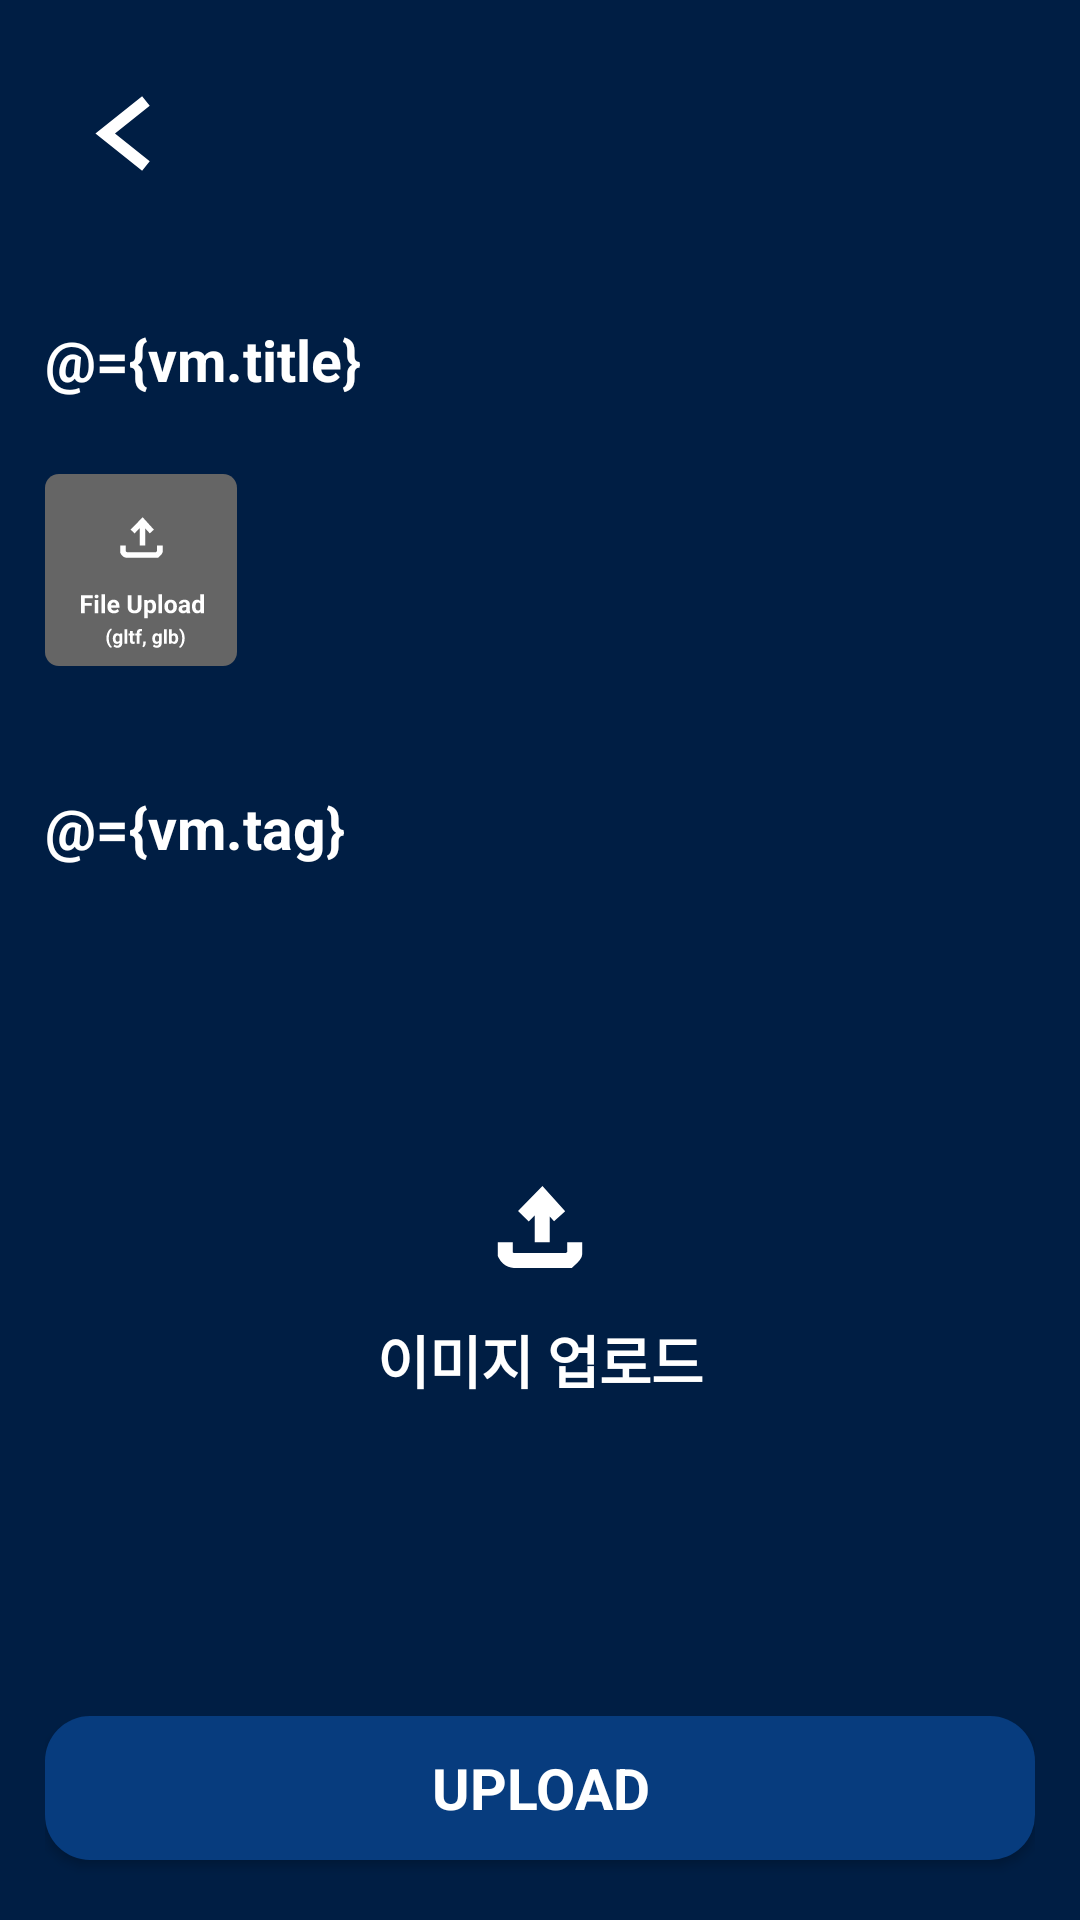

Point at icon controls on the screen. Image size 1080px x 1920px, points as [x,y].
back arrow: [122,133]
